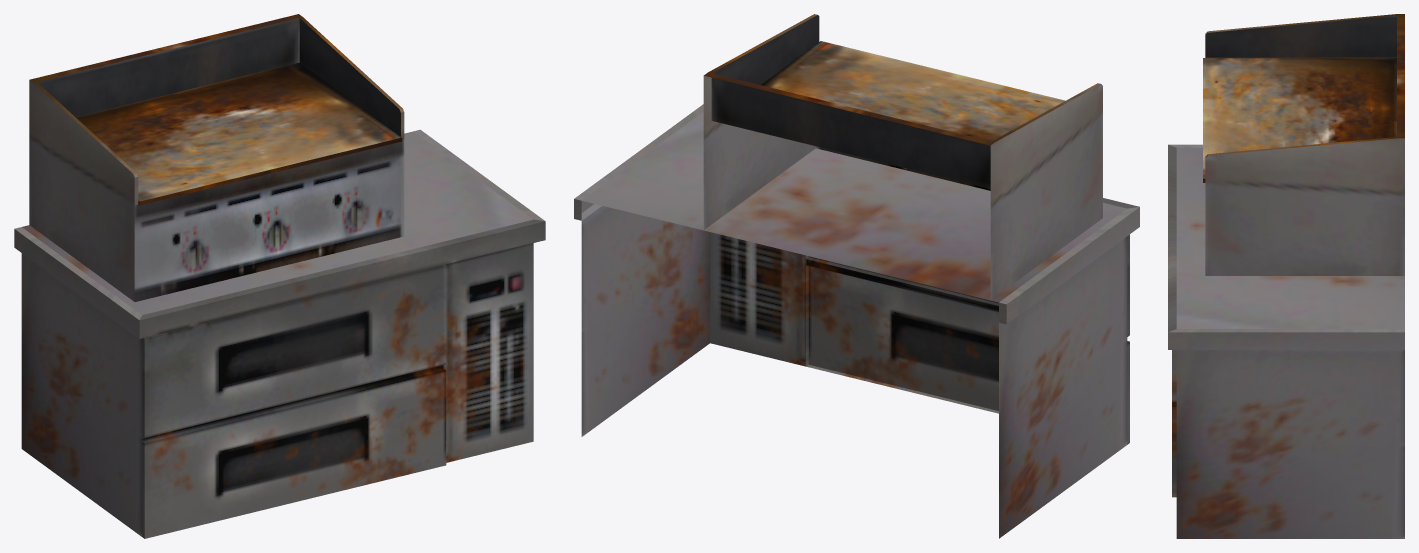
File: griddle.FBX
3 renders of one model, left to right at view 1: azimuth 30°, elevation 25°; view 2: azimuth 150°, elevation 25°; view 3: azimuth 270°, elevation 25°, orthographic. The views are drawn at different scales.
Parts seen in each view (by area): view 1: griddle; view 2: griddle; view 3: griddle.
Part boxes in pixels (<box>): griddle: <box>14,14,545,538</box>; griddle: <box>574,14,1139,538</box>; griddle: <box>1168,14,1404,538</box>.
Bounding box in the file's own units: 68.79 × 59.45 × 36.72.
